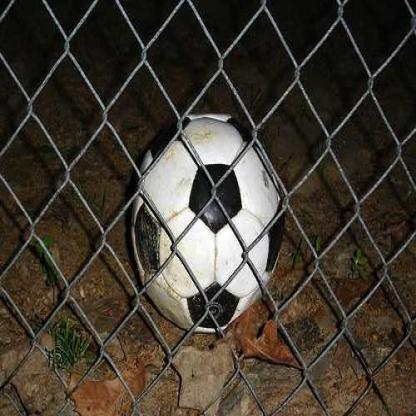ball: (132, 115, 285, 334)
